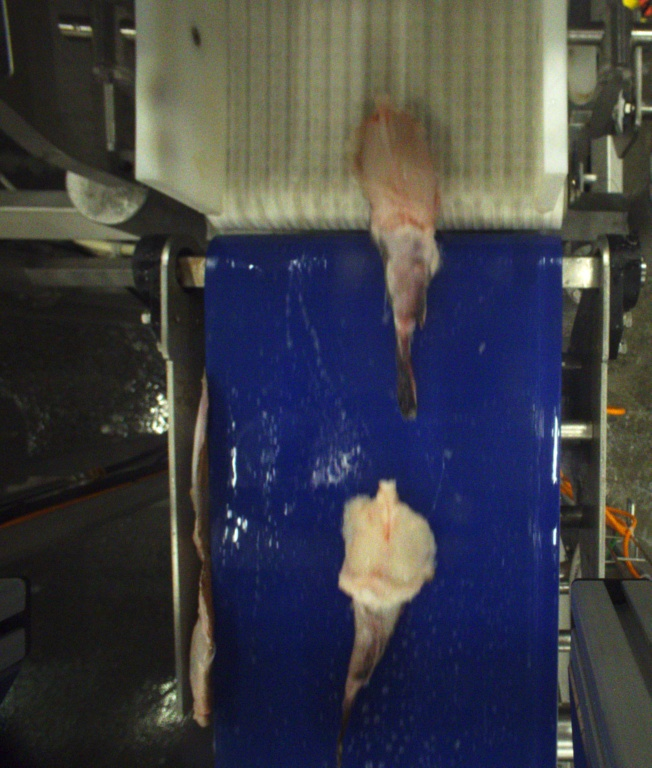ANF: (354, 96, 446, 418)
